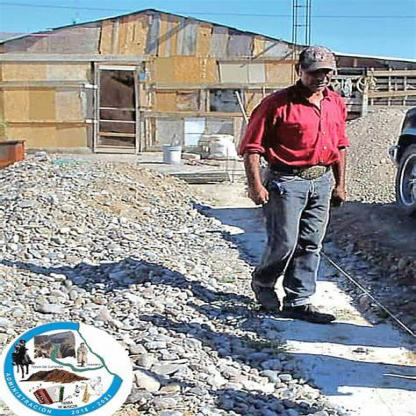person: (240, 38, 349, 321)
